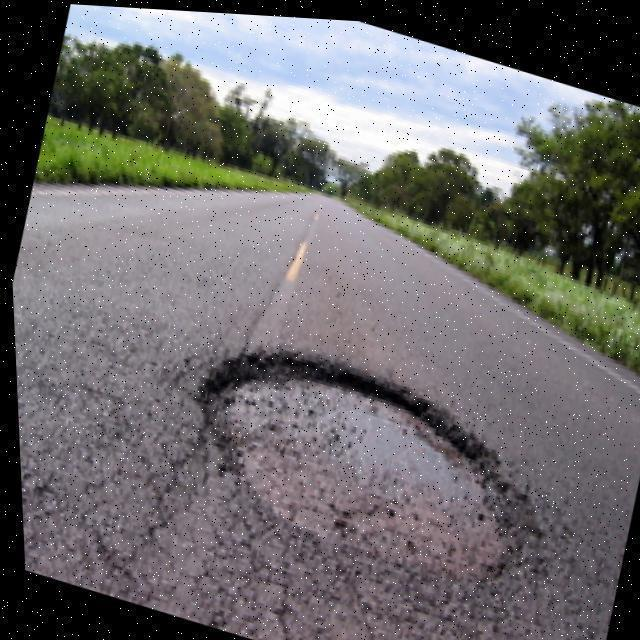Pothole: (194, 343, 536, 585)
